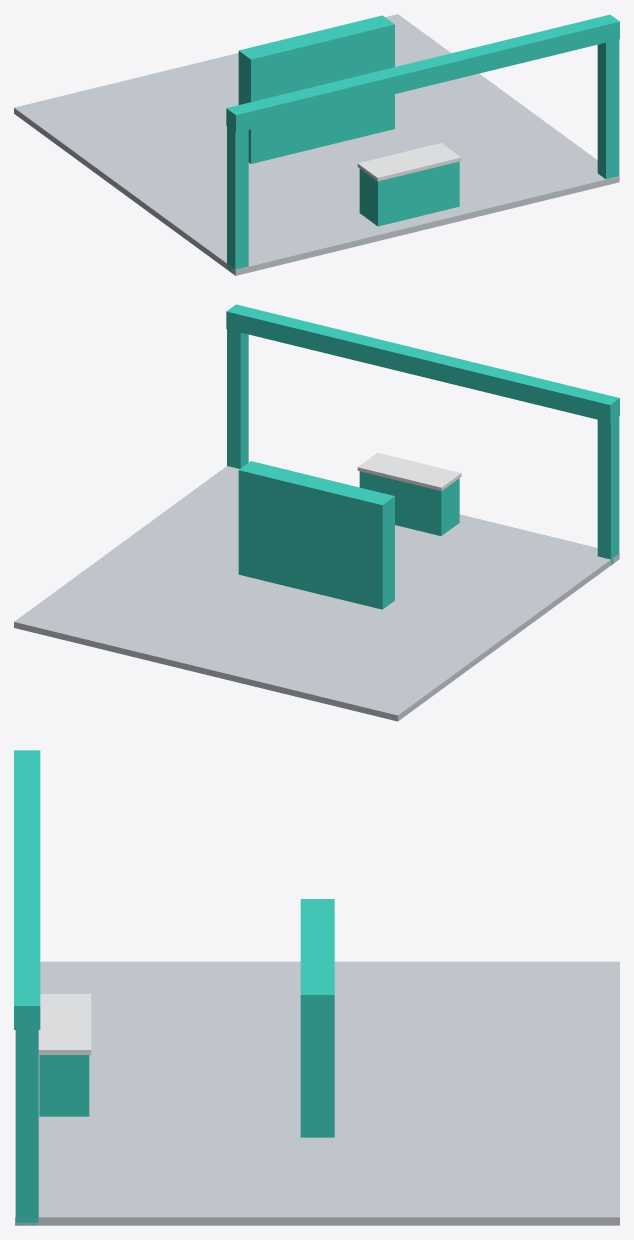
3 views of the same model, one above another, from view 1: azimuth 30°, elevation 25°; view 2: azimuth 150°, elevation 25°; view 3: azimuth 270°, elevation 25° (orthographic). The views are drawn at different scales.
Parts seen in each view (by area): view 1: Exhibition Booth Concept; view 2: Exhibition Booth Concept; view 3: Exhibition Booth Concept.
Boxes of the visible parts, bbox=[...] form: Exhibition Booth Concept: bbox=[14, 14, 619, 275]; Exhibition Booth Concept: bbox=[14, 304, 619, 721]; Exhibition Booth Concept: bbox=[14, 750, 619, 1225].
Size of the model in its own units: 8 by 3.2 by 8.01.
